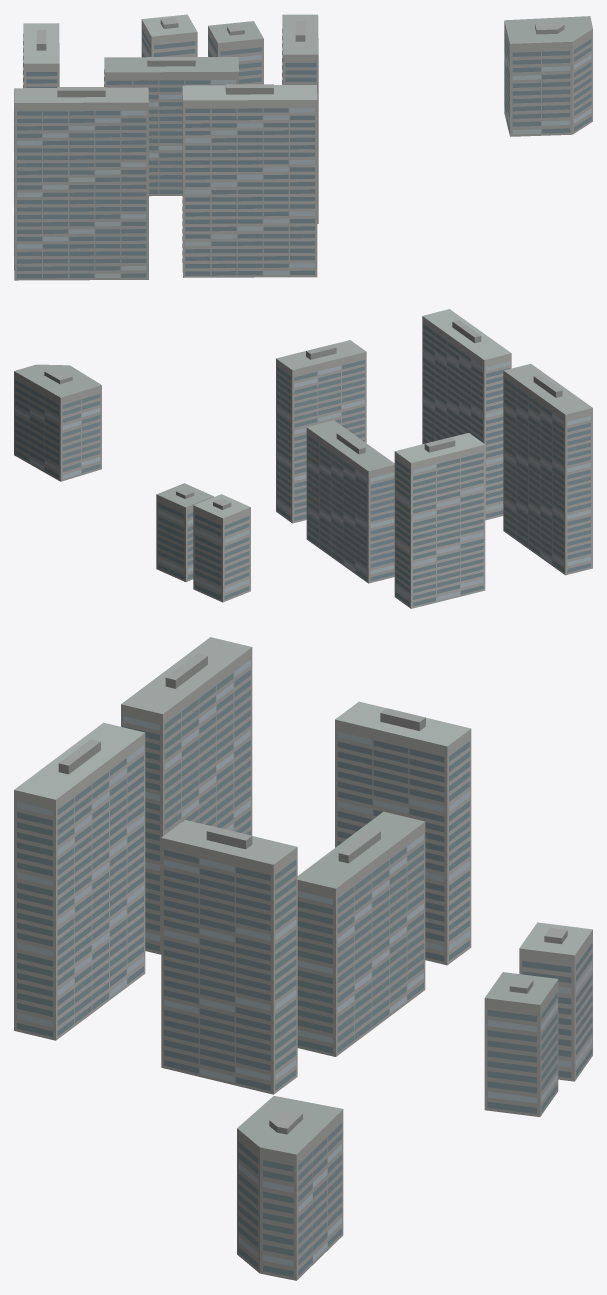
File: apt-a10027354.glb
3 renders of one model, top to bottom at view 1: azimuth 30°, elevation 25°; view 2: azimuth 150°, elevation 25°; view 3: azimuth 270°, elevation 25°, orthographic. The views are drawn at different scales.
Parts seen in each view (by area): view 1: apt-a10027354; view 2: apt-a10027354; view 3: apt-a10027354.
Boxes of the visible parts, left/top/right/bottom form: apt-a10027354: left=14, top=14, right=592, bottom=280; apt-a10027354: left=14, top=309, right=592, bottom=608; apt-a10027354: left=14, top=637, right=592, bottom=1280.
Size of the model in its own units: 235 by 68 by 143.
